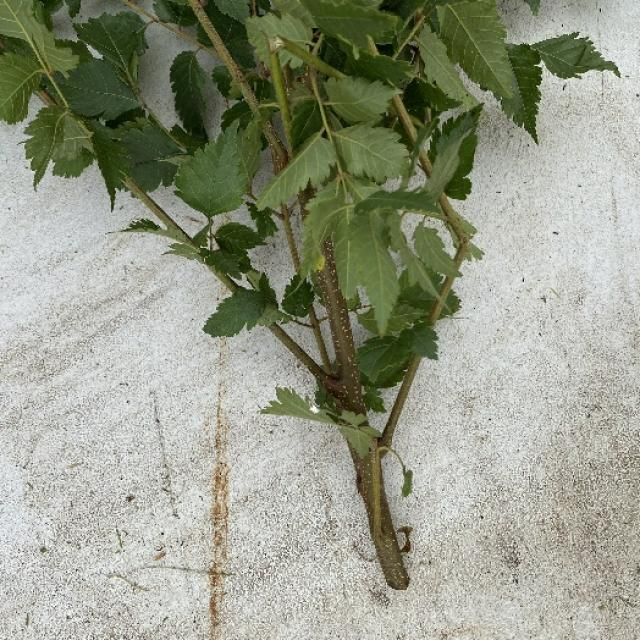organik: (0, 0, 616, 588)
